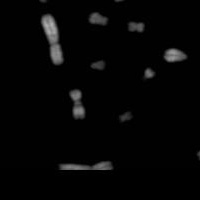chromosome: (40, 12, 63, 65), (69, 89, 86, 119), (164, 49, 188, 63), (89, 13, 107, 27), (119, 109, 133, 123), (142, 66, 155, 81), (90, 60, 107, 70), (129, 23, 144, 33), (35, 0, 48, 2), (199, 141, 200, 162), (110, 0, 126, 1)
